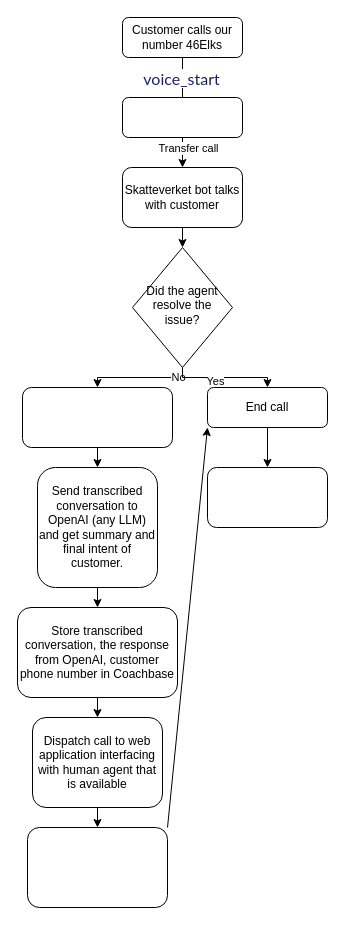
Image size: 345x925. Some labels were removed from this diagram. Each missing label, with the centre of its shape:
"Call webhook for transfer call & storing information" belongs at pixel 97 417.
"Fetch call information from coachbase and display in web app" belongs at pixel 97 867.
"Fetch SIP configuration" belongs at pixel 182 117.
"Store transcription, calling phonenumber and resolvestatus" belongs at pixel 267 497.
